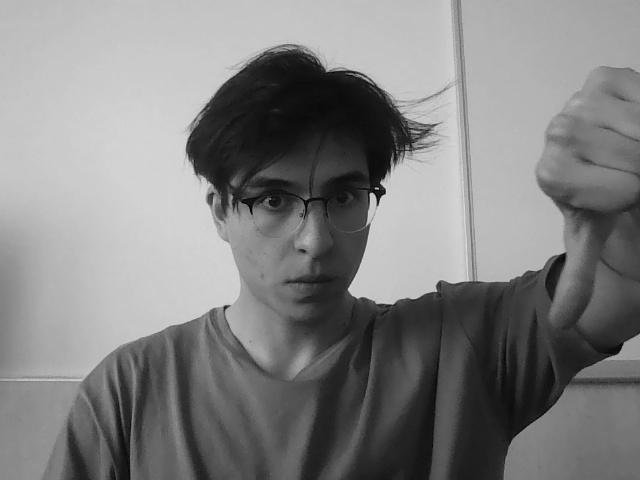bad: (536, 67, 640, 389)
